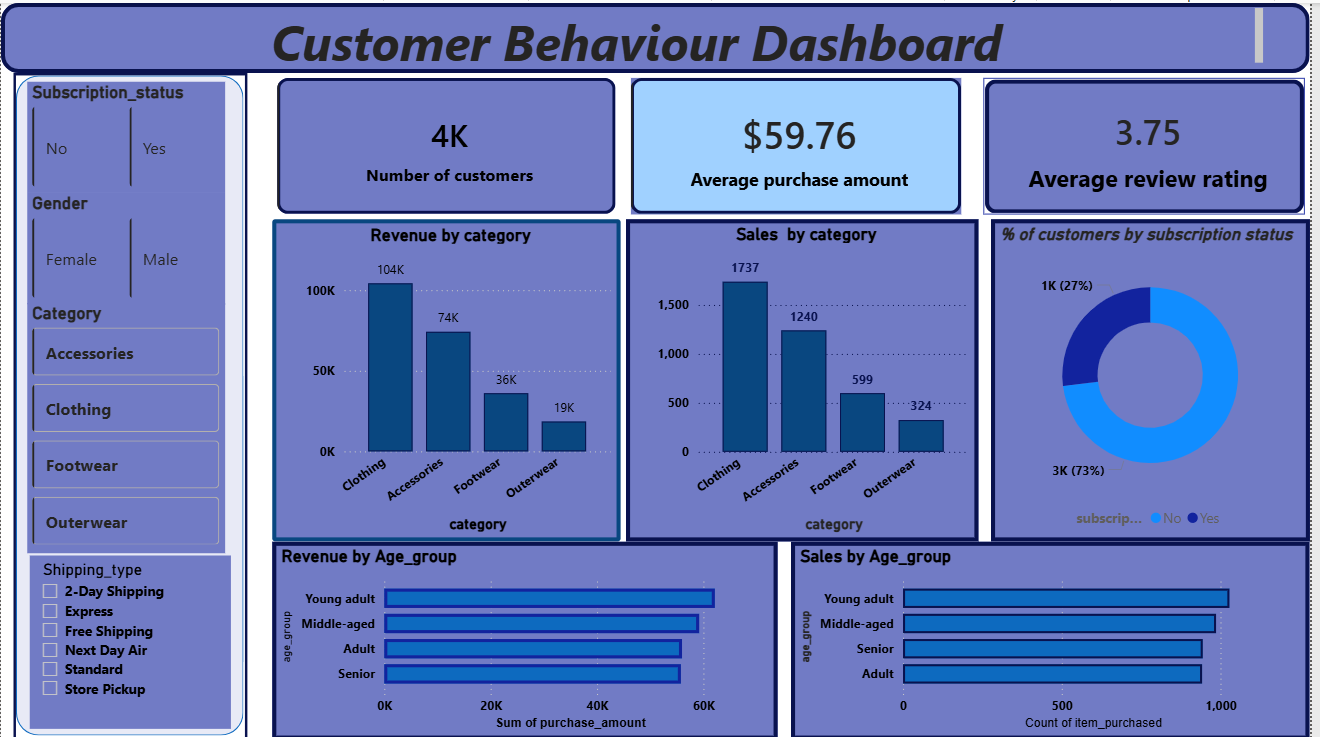

This screenshot's page, from the dashboard's own definition file:
{"tool":"powerbi","page":{"name":"Page 1","canvas":[1280,720],"ordinal":0},"visuals":[{"type":"cardVisual","fields":{"Data":["public customer.Number of customers"]},"box":[265.4,68.5,341.2,143.1],"z":0},{"type":"cardVisual","fields":{"Data":["public customer.Average purchase amount"]},"box":[611.4,68.5,333.8,143.1],"z":1000},{"type":"cardVisual","fields":{"Data":["public customer.Average review rating"]},"box":[956.3,68.5,324.1,143.1],"z":2000},{"type":"columnChart","title":"Revenue by category","fields":{"Category":["public customer.category"],"Y":["Sum(public customer.purchase_amount)"]},"box":[265.4,211.6,341.2,315.5],"z":3000},{"type":"columnChart","title":"Sales  by category","fields":{"Y":["CountNonNull(public customer.customer_id)"],"Category":["public customer.category"]},"box":[611.4,211.6,344.8,315.5],"z":4000},{"type":"donutChart","title":"% of customers by subscription status","fields":{"Category":["public customer.subscription_status"],"Y":["public customer.Number of customers"]},"box":[968.5,211.6,311.8,315.5],"z":5000},{"type":"shape","title":"Cus","box":[0,0,1280.3,68.5],"z":6000},{"type":"textbox","box":[12.2,0,1227.7,68.5],"z":7000},{"type":"shape","box":[12.2,68.5,228.7,651.8],"z":8000},{"type":"advancedSlicerVisual","title":"Subscription_status","fields":{"Values":["public customer.subscription_status"]},"box":[25.7,77,193.2,108.8],"z":9000},{"type":"advancedSlicerVisual","title":"Category","fields":{"Values":["public customer.category"]},"box":[25.7,293.5,193.2,244.6],"z":10000},{"type":"slicer","title":"Shipping","fields":{"Values":["public customer.shipping_type"]},"box":[28.1,540.5,196.9,170],"z":11000},{"type":"barChart","title":"Revenue by Age_group","fields":{"Category":["public customer.age_group"],"Y":["Sum(public customer.purchase_amount)"]},"box":[265.4,527,494,193.2],"z":12000},{"type":"barChart","title":"Sales by Age_group","fields":{"Category":["public customer.age_group"],"Y":["CountNonNull(public customer.item_purchased)"]},"box":[772.8,527,507.5,193.2],"z":13000},{"type":"advancedSlicerVisual","title":"Gender","fields":{"Values":["public customer.gender"]},"box":[25.7,185.9,193.2,108.8],"z":14000}]}

Visuals, with their boxes in screenshot pixels (x1, y1, x2, y2), scaled from the page's 1280x720 canvas onto the 1320x737 screenshot:
cardVisual - public customer.Number of customers: left=274, top=70, right=626, bottom=217
cardVisual - public customer.Average purchase amount: left=631, top=70, right=975, bottom=217
cardVisual - public customer.Average review rating: left=986, top=70, right=1319, bottom=217
"Revenue by category" columnChart: left=274, top=217, right=626, bottom=540
"Sales  by category" columnChart: left=631, top=217, right=986, bottom=540
"% of customers by subscription status" donutChart: left=999, top=217, right=1319, bottom=540
"Cus" shape: left=0, top=0, right=1319, bottom=70
textbox: left=13, top=0, right=1279, bottom=70
shape: left=13, top=70, right=248, bottom=736
"Subscription_status" advancedSlicerVisual: left=27, top=79, right=226, bottom=190
"Category" advancedSlicerVisual: left=27, top=300, right=226, bottom=551
"Shipping" slicer: left=29, top=553, right=232, bottom=727
"Revenue by Age_group" barChart: left=274, top=539, right=783, bottom=736
"Sales by Age_group" barChart: left=797, top=539, right=1319, bottom=736
"Gender" advancedSlicerVisual: left=27, top=190, right=226, bottom=302
